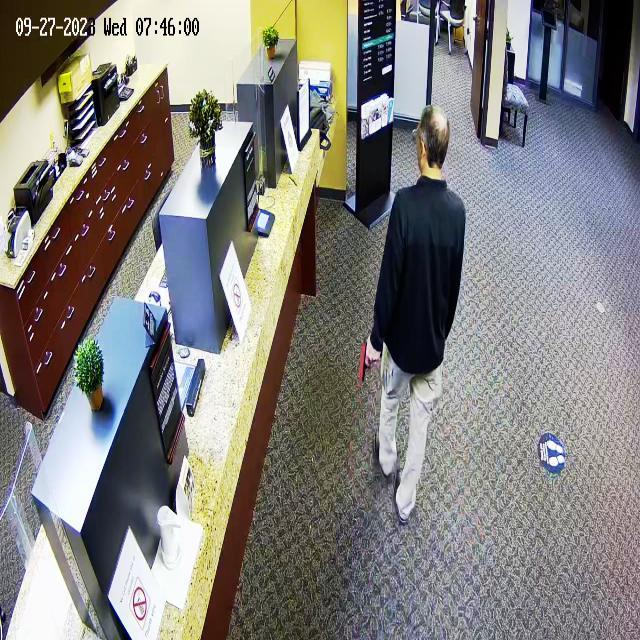Gun: (347, 340, 385, 397)
